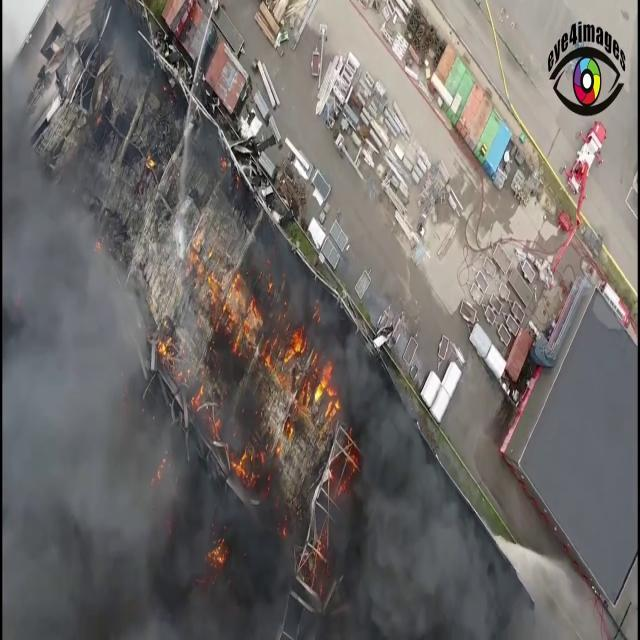Fire: (183, 234, 316, 408)
Smoke: (4, 117, 351, 638), (327, 331, 500, 640)
